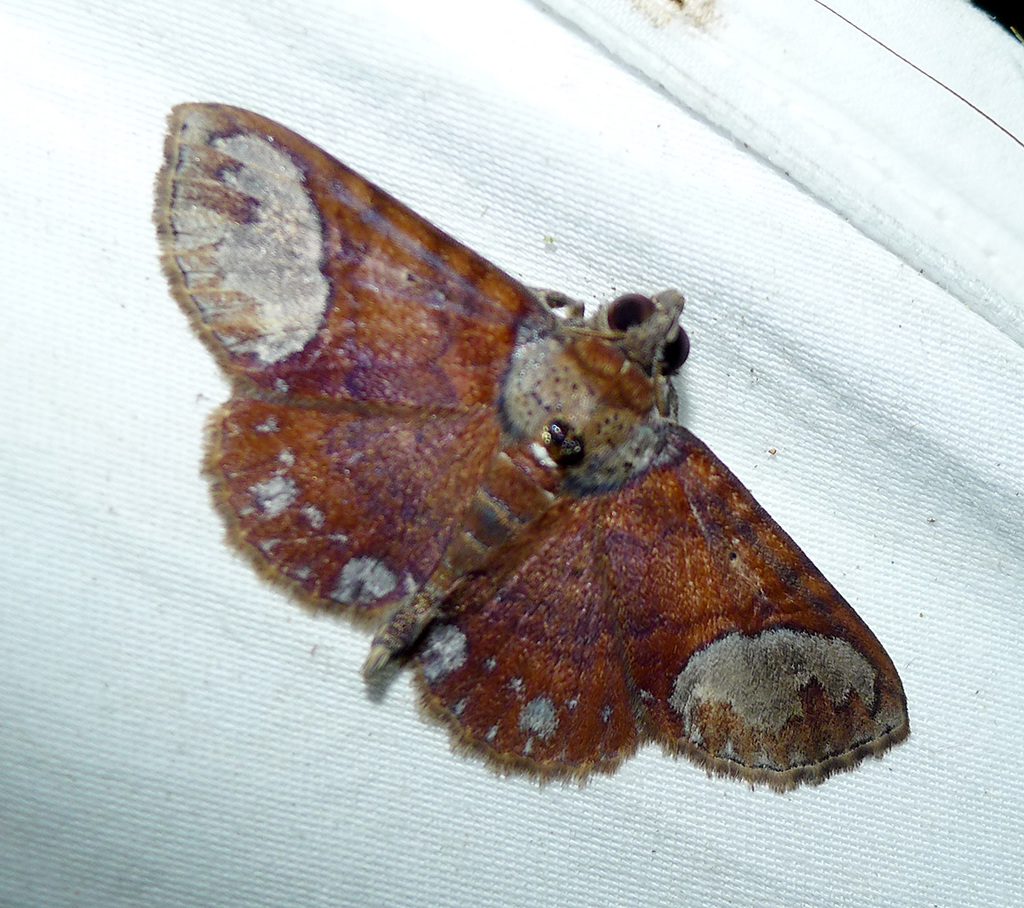Butterfly: (144, 86, 904, 781)
